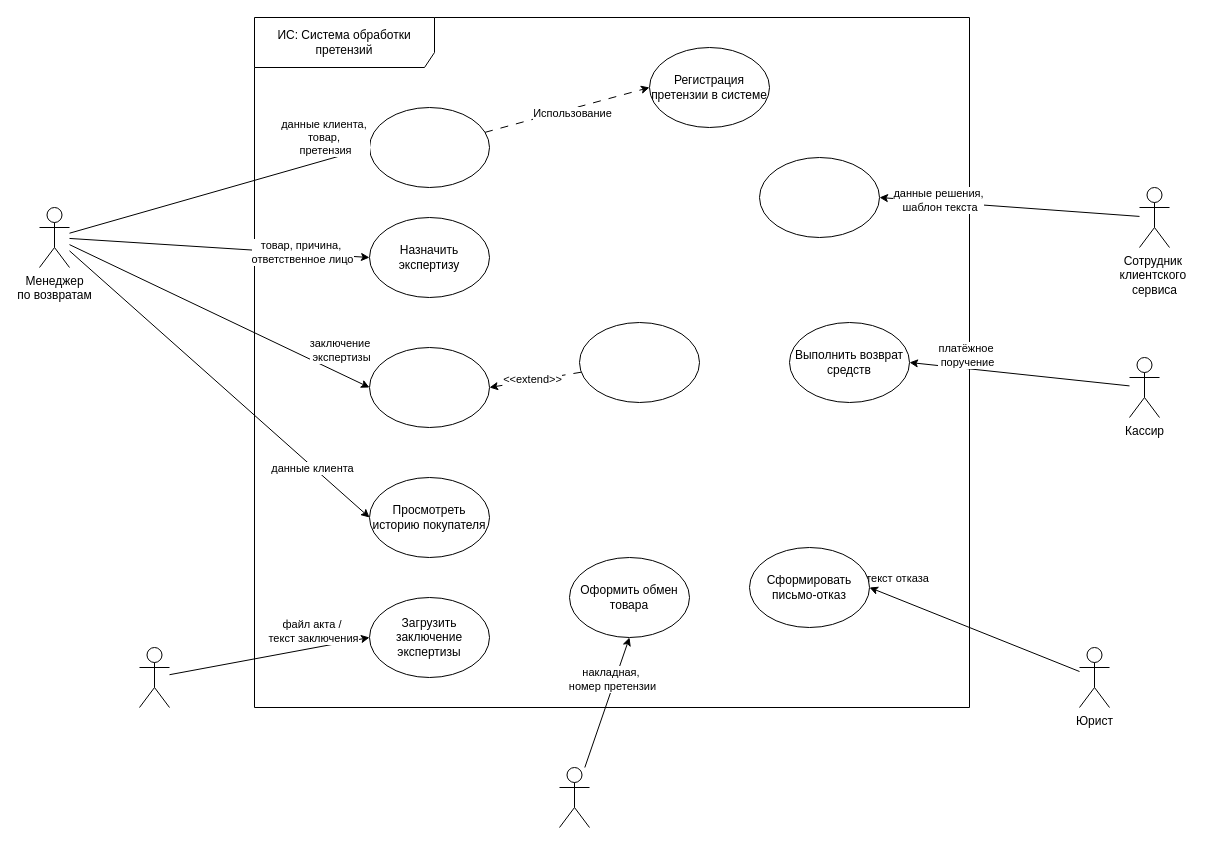
This 1207x866 diagram has some shape labels left out. Each missing label, with the centre of its shape:
"Зарегистрировать претензию" belongs at point (429, 147).
"Кладовщик" belongs at point (574, 797).
"Принять решение по претензии" belongs at point (429, 387).
"Проверка правомерности" belongs at point (639, 362).
"Уведомить клиента" belongs at point (819, 197).
"Эксперт" belongs at point (154, 677).
